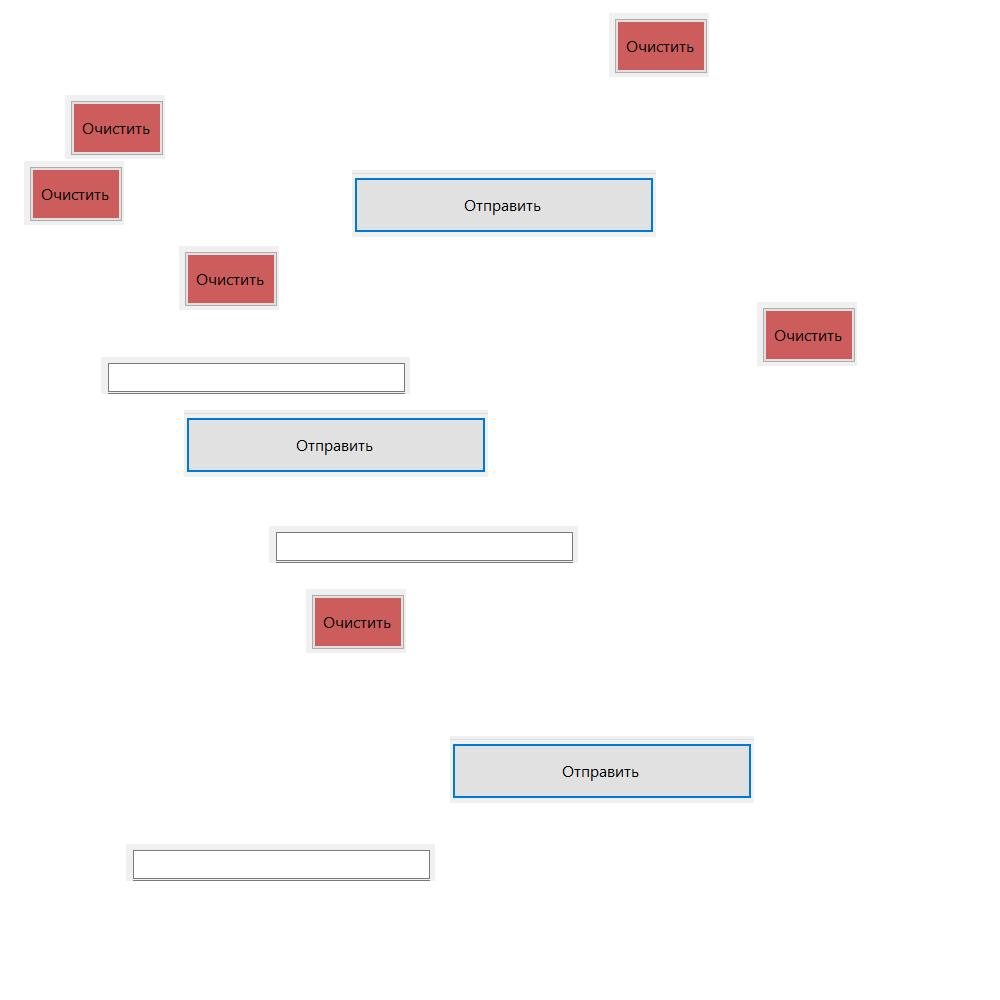Button: (450, 736, 754, 803), (184, 410, 488, 477), (352, 170, 656, 237), (179, 246, 279, 310), (24, 161, 124, 225), (757, 302, 857, 366), (609, 13, 709, 77), (65, 95, 165, 159), (306, 589, 406, 653)
EditText-: (101, 357, 410, 394), (269, 526, 578, 563), (126, 844, 435, 881)
